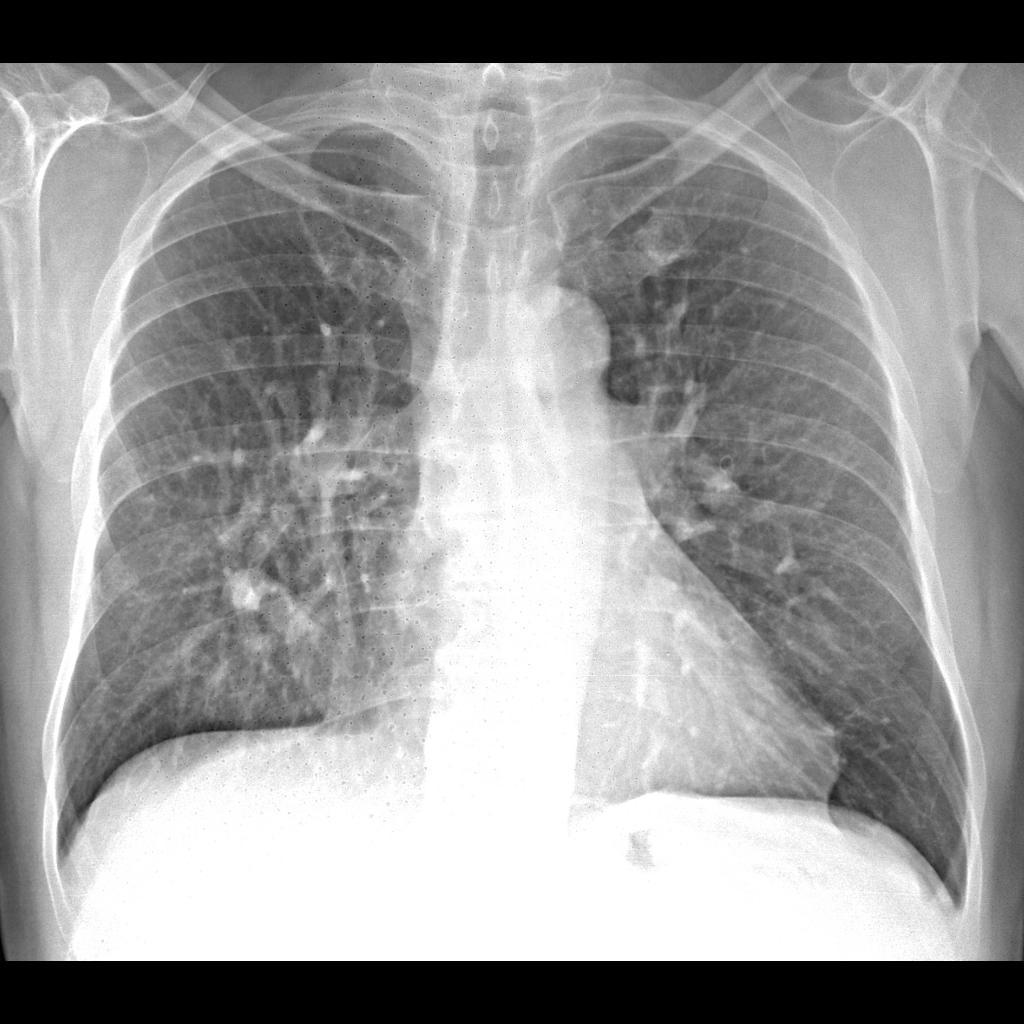Nodule: (206, 550, 286, 631)
